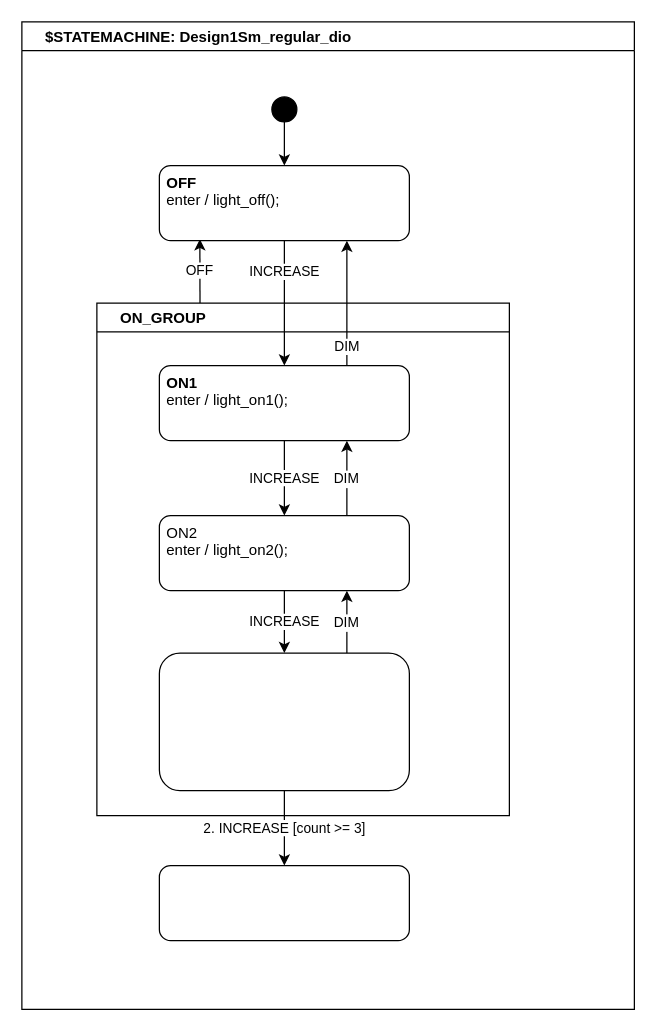
The diagram is 656 pixels wide and 1031 high, and some of its shapes have lost their labels. Here are the shapes that lost their labels. From the top down, the centre of each, then its label:
At (x=283, y=721): "ON3 enter / { count = 0; light_on3(); } 1. INCREASE / count++;".
At (x=283, y=902): "BOOM enter / light_boom();".
